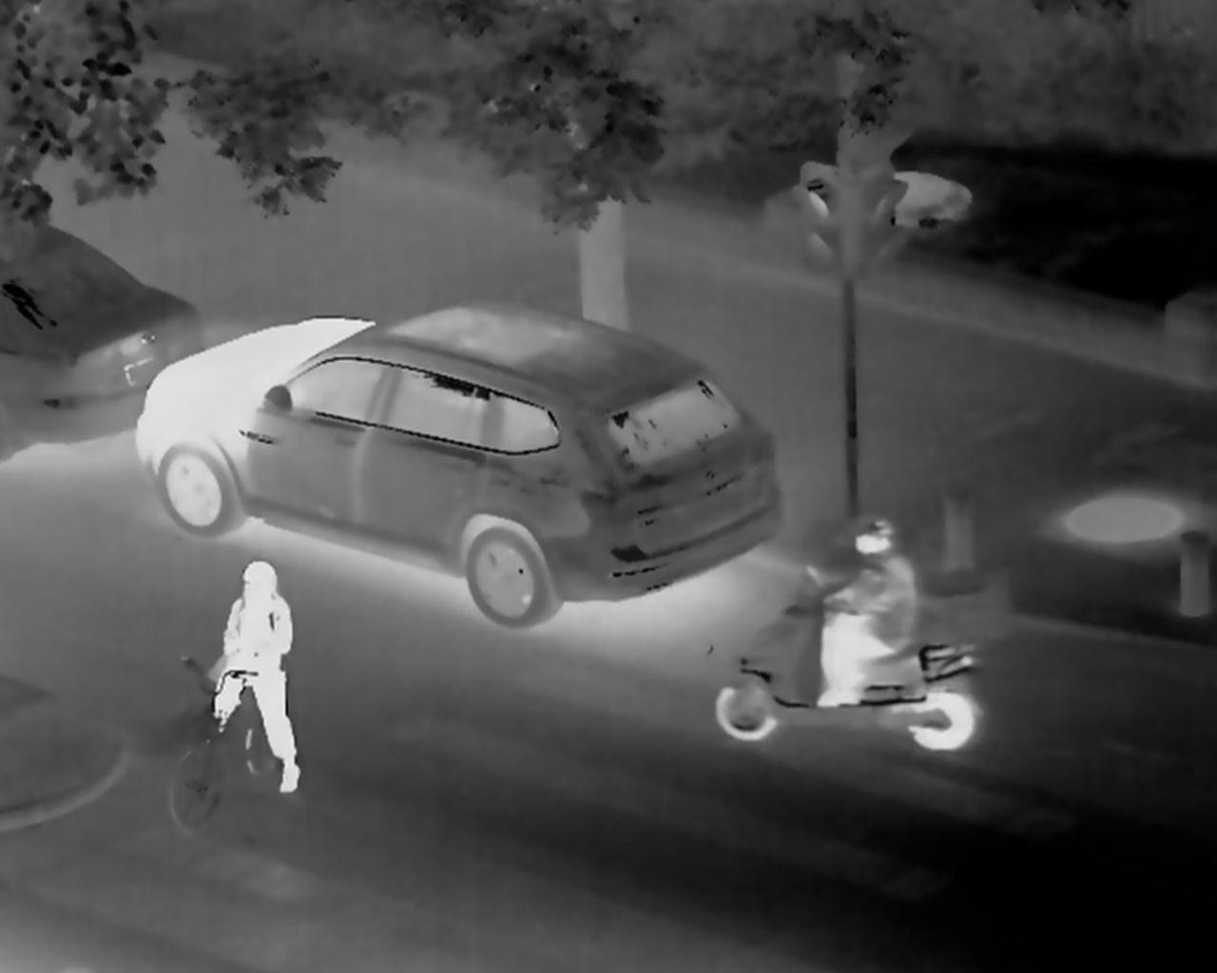person: (203, 558, 314, 798), (812, 517, 922, 710)
